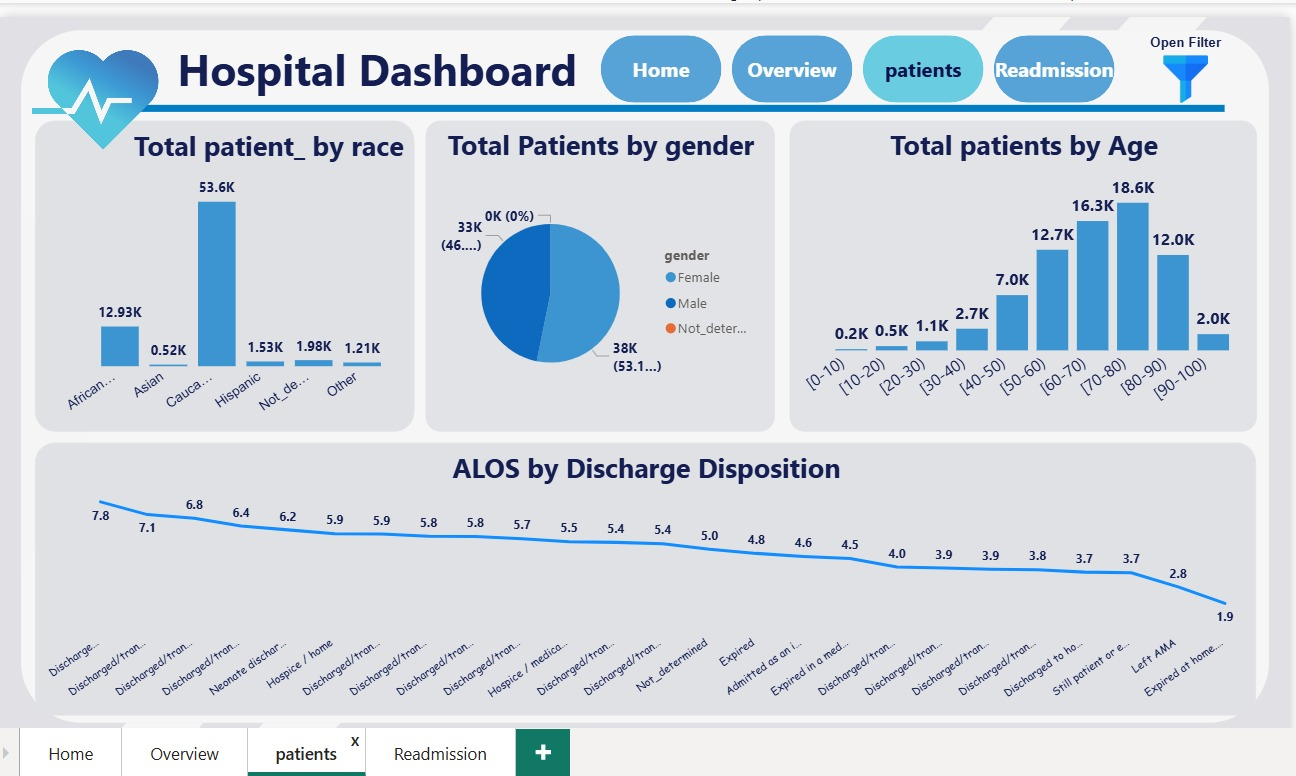

This screenshot's page, from the dashboard's own definition file:
{"tool":"powerbi","page":{"name":"patients","canvas":[1280,720],"ordinal":2},"visuals":[{"type":"lineChart","title":"ALOS by Discharge Disposition","fields":{"Category":["data.discharge_disposition"],"Y":["Data Measure.Avg Length of Stay"]},"box":[34.7,422.4,1211.7,271],"z":0},{"type":"textbox","box":[170.9,18.1,418.3,72.3],"z":1000},{"type":"pageNavigator","box":[595.7,17.9,510.6,67.2],"z":2000},{"type":"image","title":"Open Filter","box":[1132.5,18.1,88.9,72.3],"z":6000},{"type":"clusteredColumnChart","title":"Total patients by Age","fields":{"Category":["data.age"],"Y":["Data Measure.Unique Patients"]},"box":[783.3,103.2,463.8,308.2],"z":8000},{"type":"pieChart","title":"Total Patients by gender","fields":{"Category":["data.gender"],"Y":["Data Measure.Unique Patients"]},"box":[422.8,103.2,346.4,308.2],"z":9000},{"type":"columnChart","title":"Total  patient_ by race","fields":{"Y":["Count(data.patient_nbr)"],"Category":["data.race"]},"box":[35.3,103.2,376.1,308.2],"z":10000},{"type":"image","box":[18.1,22.2,152.8,119.5],"z":11000}]}

Visuals, with their boxes on the page's 1280x720 design canvas (x1, y1, x2, y2). These are canvas units, not pixel positions in the 1296x776 screenshot, which may show the page scaled, cropped or inside an application window:
"ALOS by Discharge Disposition" lineChart: (35, 422, 1246, 693)
textbox: (171, 18, 589, 90)
pageNavigator: (596, 18, 1106, 85)
"Open Filter" image: (1132, 18, 1221, 90)
"Total patients by Age" clusteredColumnChart: (783, 103, 1247, 411)
"Total Patients by gender" pieChart: (423, 103, 769, 411)
"Total  patient_ by race" columnChart: (35, 103, 411, 411)
image: (18, 22, 171, 142)
